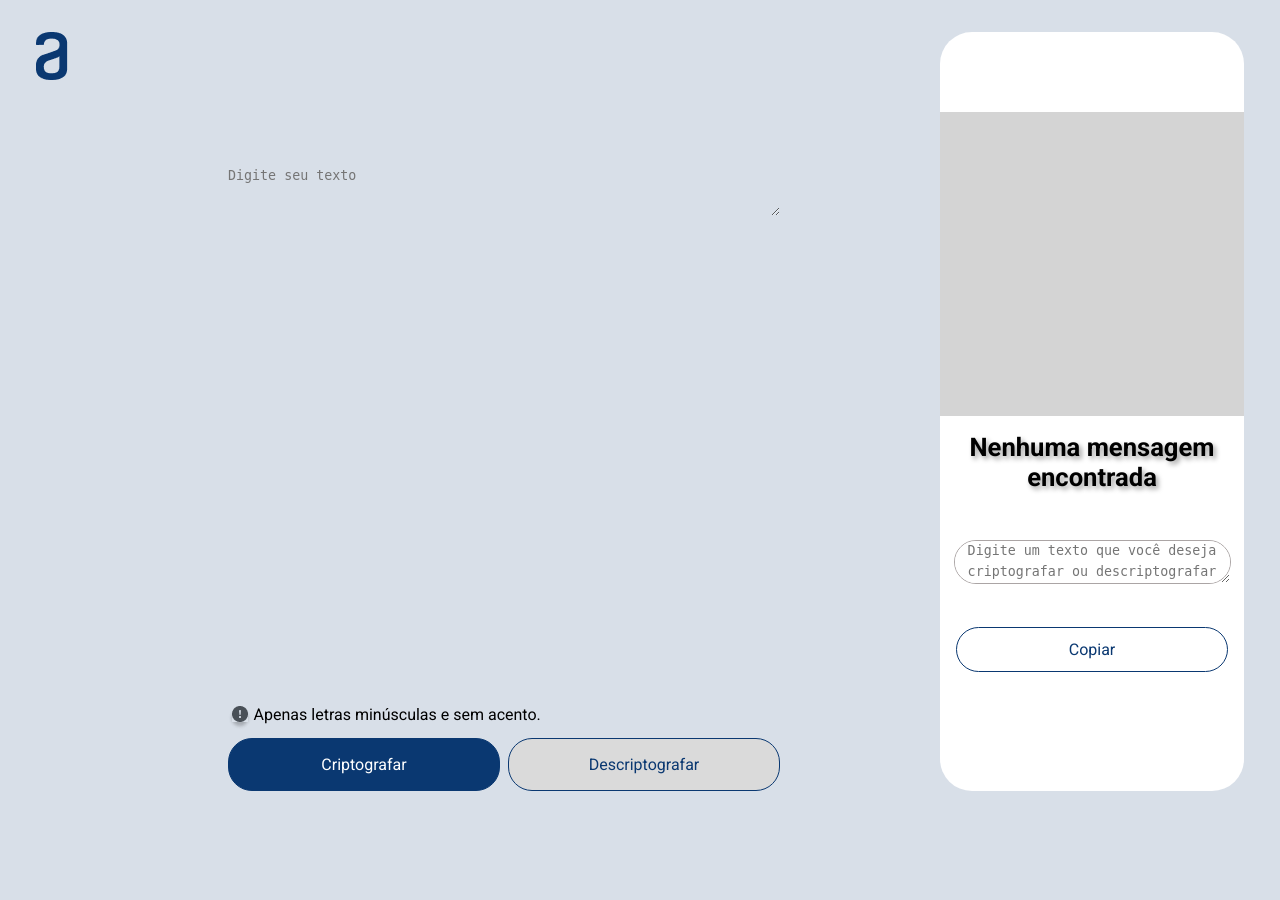
App Component › Deve criptografar o texto corretamente quando o campo de entrada for válido
Simula a entrada de um texto válido
In the text box with placeholder "Digite seu texto": (504, 192) [228, 168, 780, 216], type "hello world"
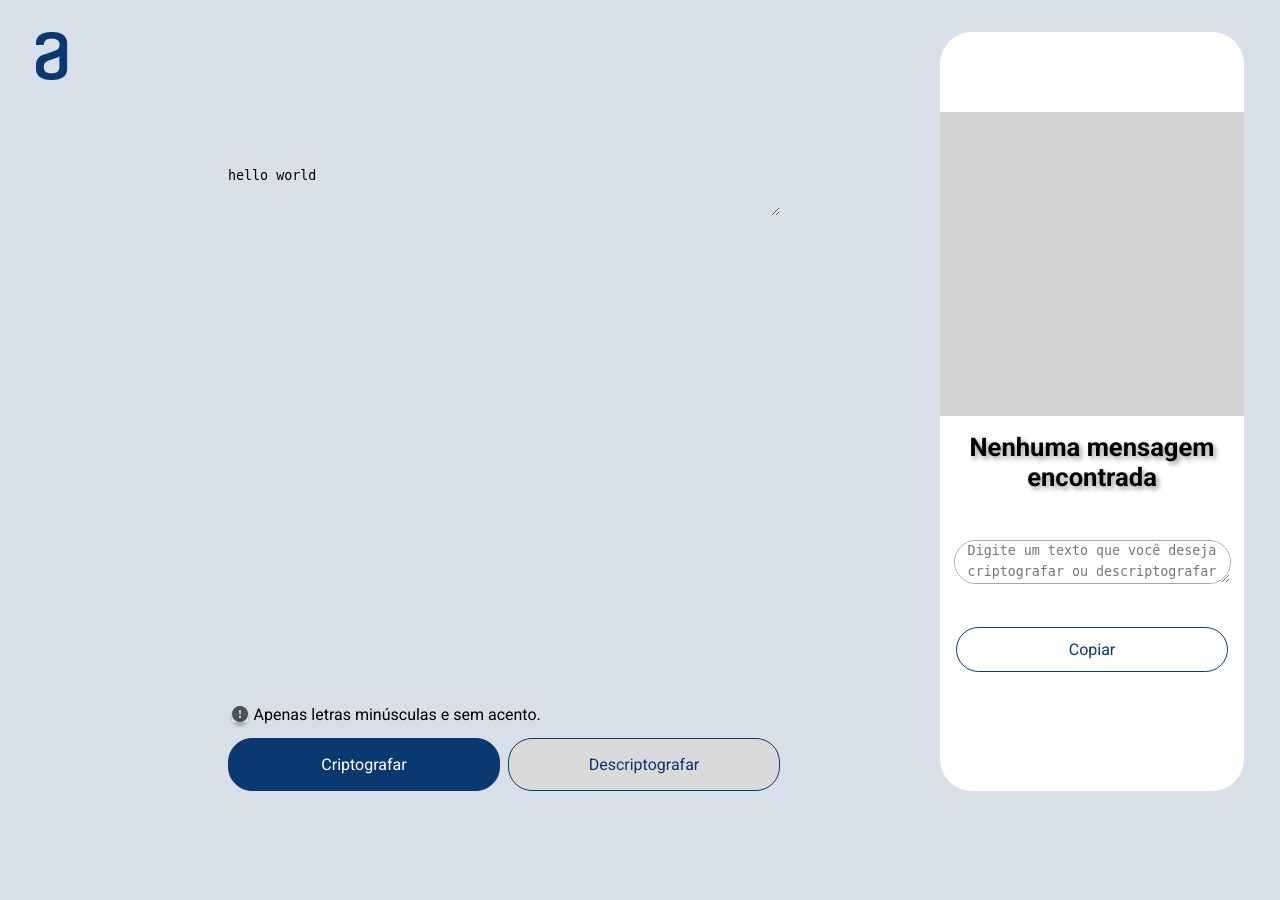
Click the button "Criptografar": click(364, 765) [228, 738, 500, 791]
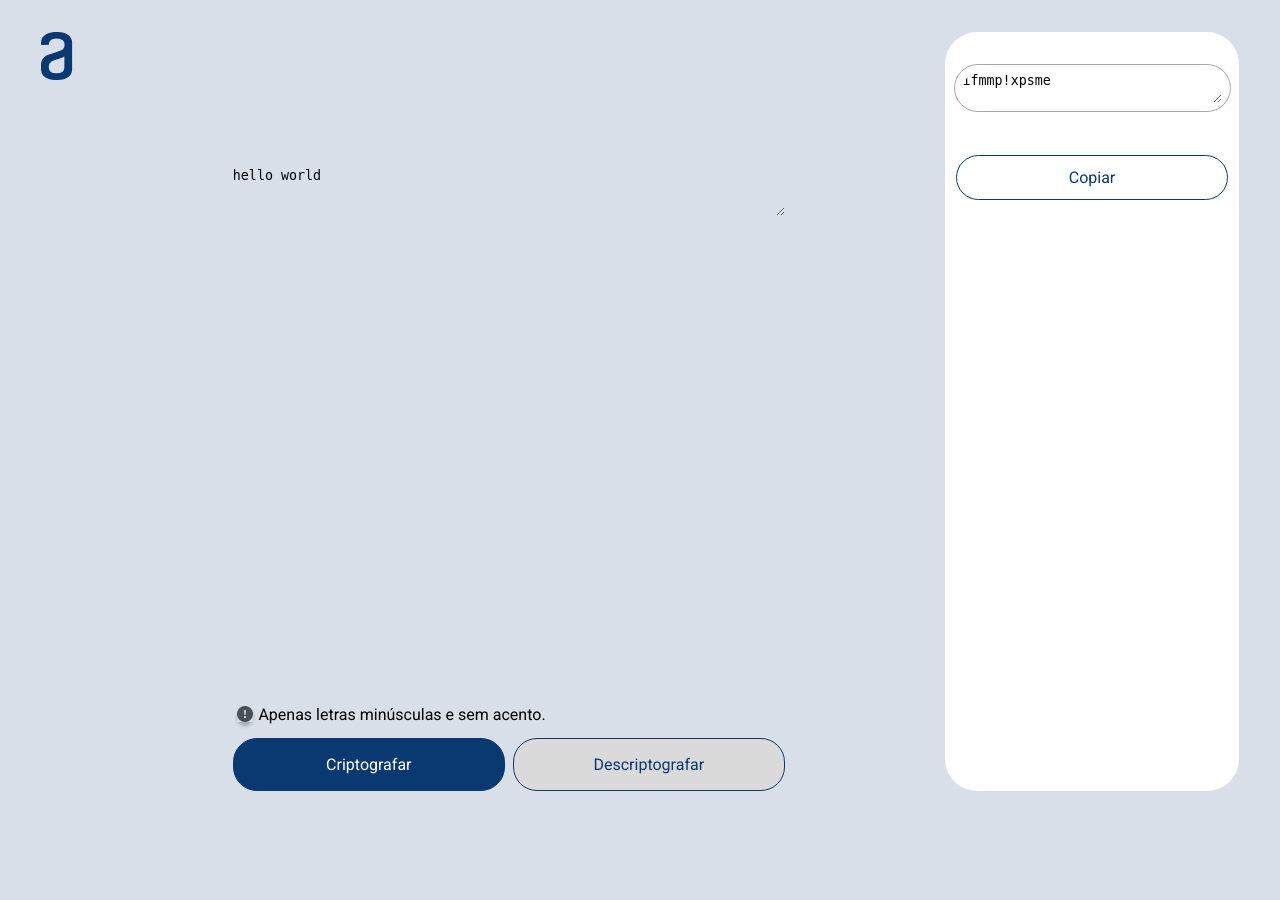
expect the 1st text box showing "ifmmp!xpsme" is shown: met, box [962, 73, 1222, 103]
